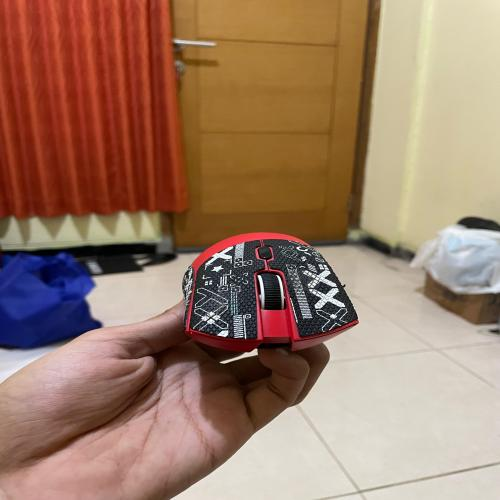mouse: (177, 221, 370, 361)
